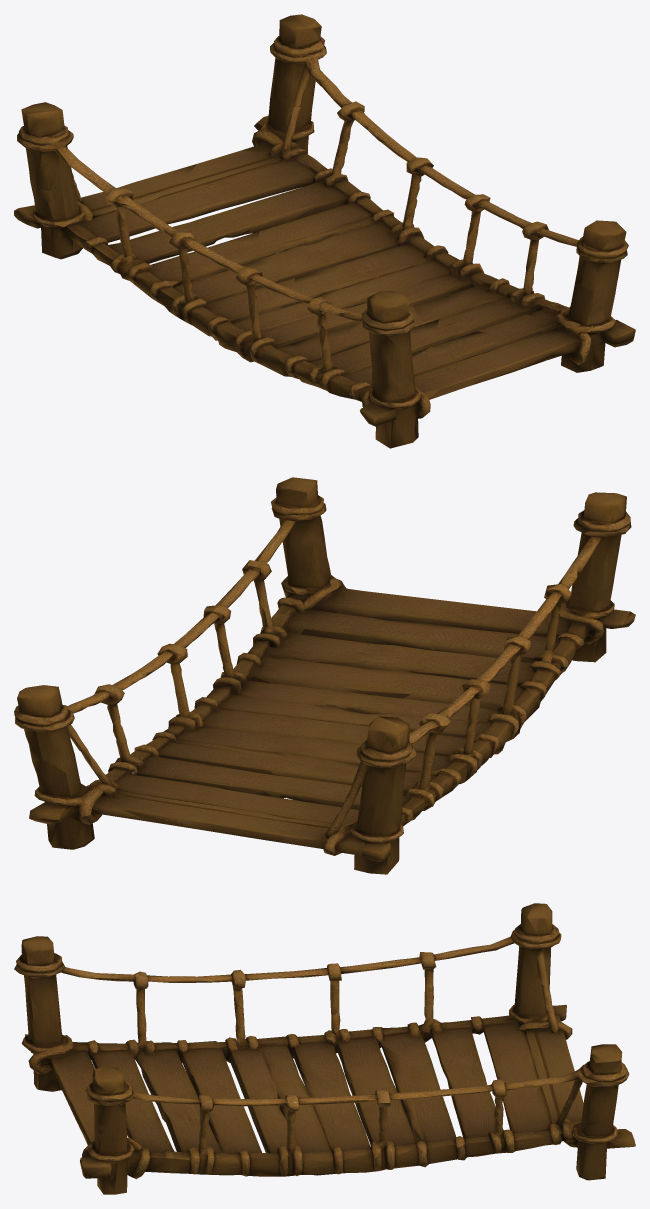
File: bridge.glb
3 views of the same model, one above another, from view 1: azimuth 30°, elevation 25°; view 2: azimuth 150°, elevation 25°; view 3: azimuth 270°, elevation 25° (orthographic). The views are drawn at different scales.
Visible parts, largest first — view 1: tripo_mesh_7c3afa7b-f6d2-4f84-a378-e2756f755f31; view 2: tripo_mesh_7c3afa7b-f6d2-4f84-a378-e2756f755f31; view 3: tripo_mesh_7c3afa7b-f6d2-4f84-a378-e2756f755f31.
Part boxes in pixels (bbox=[...]): tripo_mesh_7c3afa7b-f6d2-4f84-a378-e2756f755f31: bbox=[14, 14, 635, 448]; tripo_mesh_7c3afa7b-f6d2-4f84-a378-e2756f755f31: bbox=[14, 477, 635, 874]; tripo_mesh_7c3afa7b-f6d2-4f84-a378-e2756f755f31: bbox=[14, 903, 635, 1194].
Size of the model in its own units: 0.6434 by 0.2674 by 1.05.
Materials: 1 (1 with a texture image).
